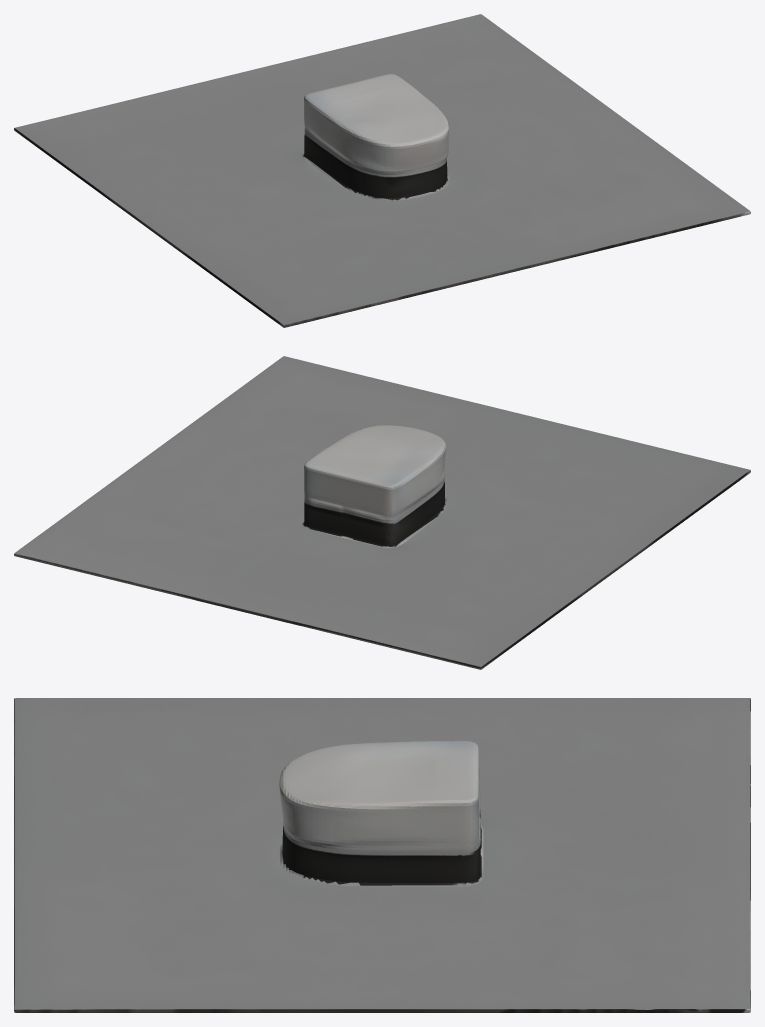
File: sctpu.glb
3 renders of one model, top to bottom at view 1: azimuth 30°, elevation 25°; view 2: azimuth 150°, elevation 25°; view 3: azimuth 270°, elevation 25°, orthographic. The views are drawn at different scales.
Visible parts, largest first — view 1: textured_mesh.obj; view 2: textured_mesh.obj; view 3: textured_mesh.obj.
Boxes of the visible parts, x1=… form: textured_mesh.obj: x1=14, y1=14, x2=750, y2=327; textured_mesh.obj: x1=14, y1=356, x2=750, y2=669; textured_mesh.obj: x1=14, y1=698, x2=750, y2=1012.
Bounding box in the file's own units: 1.98 × 0.2686 × 1.98.
1 material, 1 textured.
